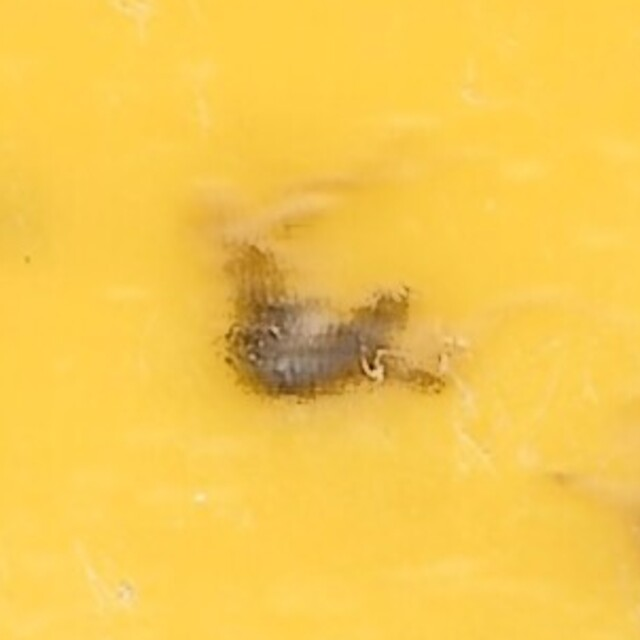Nematocera: (212, 227, 428, 413)
